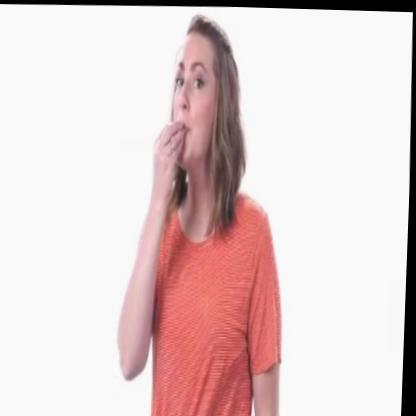Food: (138, 6, 256, 213)
